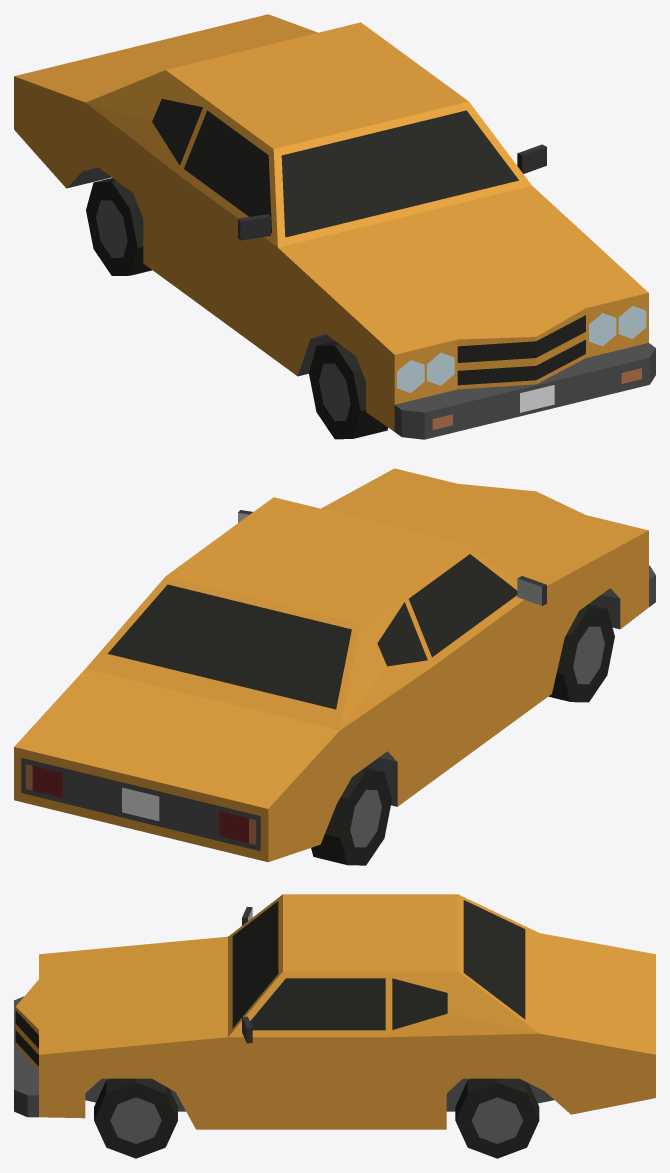
File: Veh_Muscle_Car_02_Yellow.glb
3 renders of one model, top to bottom at view 1: azimuth 30°, elevation 25°; view 2: azimuth 150°, elevation 25°; view 3: azimuth 270°, elevation 25°, orthographic. The views are drawn at different scales.
Parts seen in each view (by area): view 1: Muscle_Car_02_Yellow, Wheel_FR, Wheel_RR; view 2: Muscle_Car_02_Yellow, Wheel_RR, Wheel_FR; view 3: Muscle_Car_02_Yellow, Wheel_RL, Wheel_FL.
Part boxes in pixels (<box>): Muscle_Car_02_Yellow: <box>14,14,655,439</box>; Wheel_FR: <box>309,341,387,439</box>; Wheel_RR: <box>86,178,151,275</box>; Muscle_Car_02_Yellow: <box>14,468,655,862</box>; Wheel_RR: <box>311,767,391,865</box>; Wheel_FR: <box>548,604,614,702</box>; Muscle_Car_02_Yellow: <box>14,894,655,1129</box>; Wheel_RL: <box>455,1078,539,1158</box>; Wheel_FL: <box>94,1078,177,1158</box>.
Bounding box in the file's own units: 1.18 × 0.8001 × 2.65.
1 material, 1 textured.
